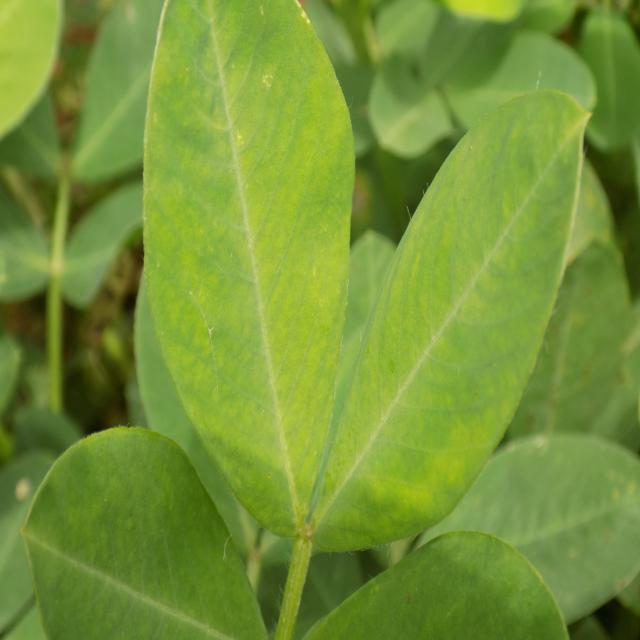Ground nut_healthy: (304, 95, 588, 547), (141, 0, 353, 545)
